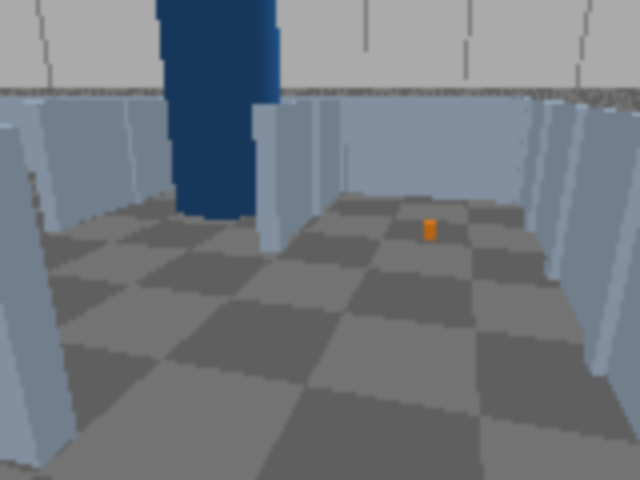puck: (423, 220, 438, 240)
